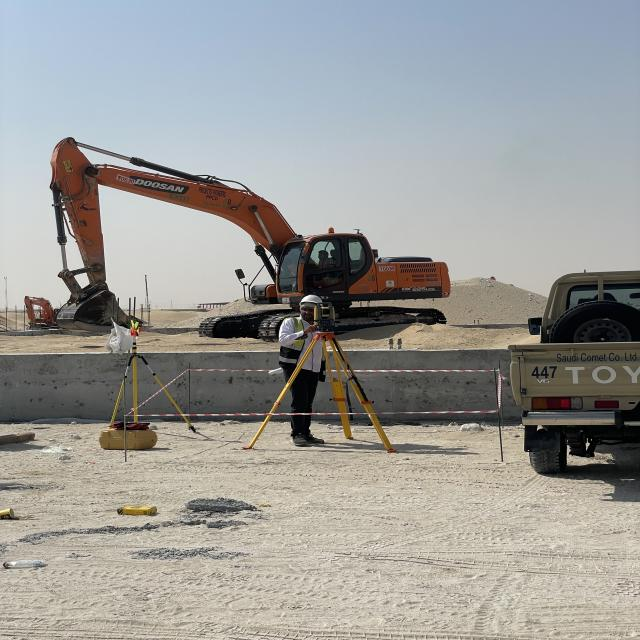excavator: (50, 137, 452, 348)
